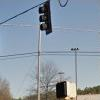traffic lights: (40, 4, 52, 32), (54, 81, 68, 99)
